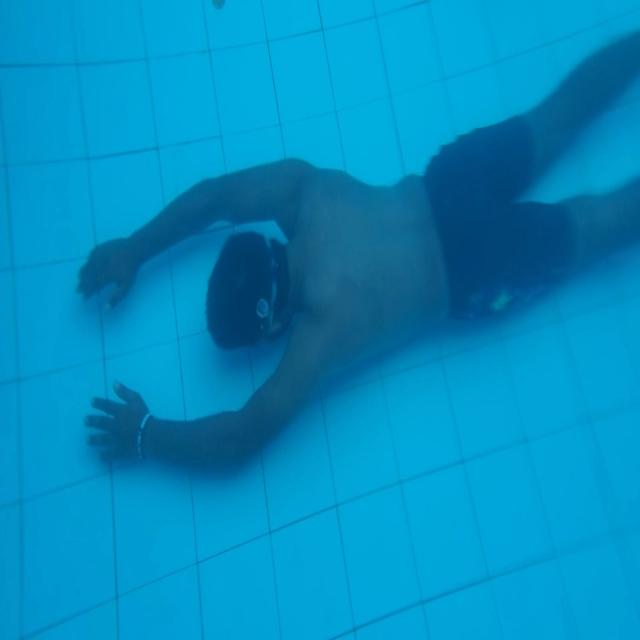drowning: (8, 27, 626, 553)
